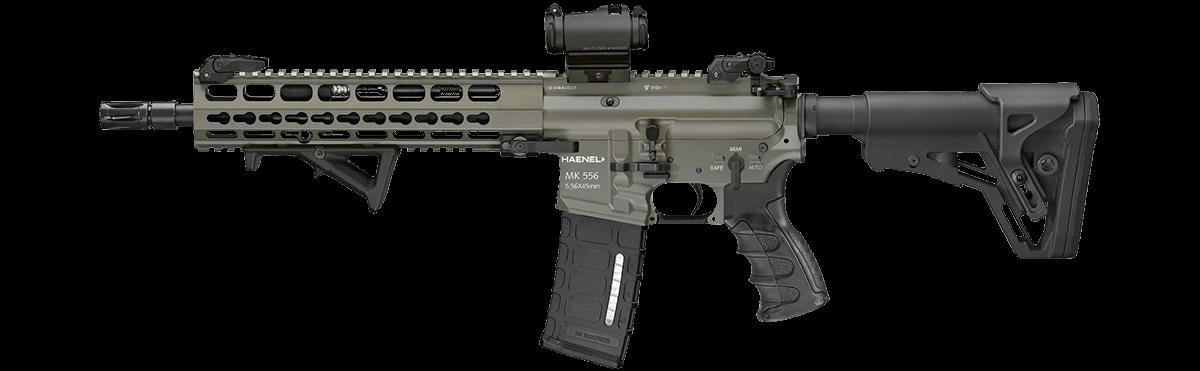Pistol: (95, 1, 1137, 371)
